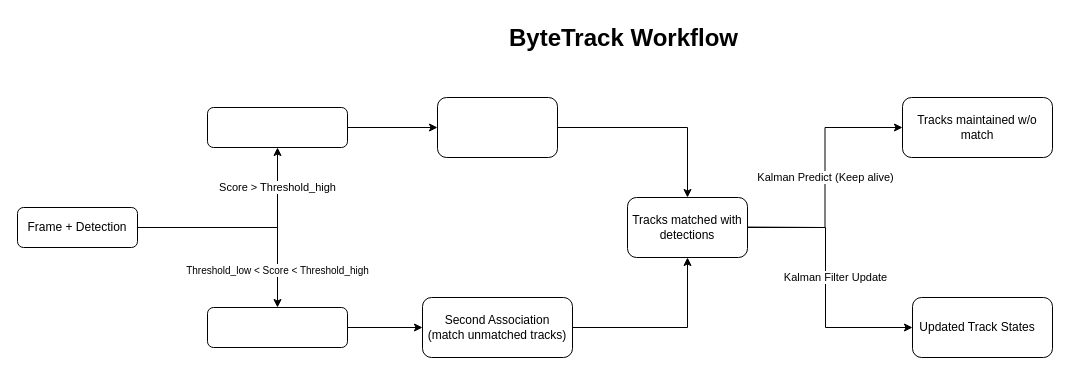
This 1070x375 diagram has some shape labels left out. Here are the shapes that lost their labels. From the top down, the box of each, then its label:
(206, 106, 348, 148): High_conf Detections
(436, 96, 558, 158): First Association (match with tracks)
(206, 306, 348, 348): Low_conf Detections
